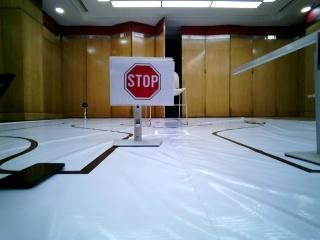stop: (112, 57, 171, 105)
